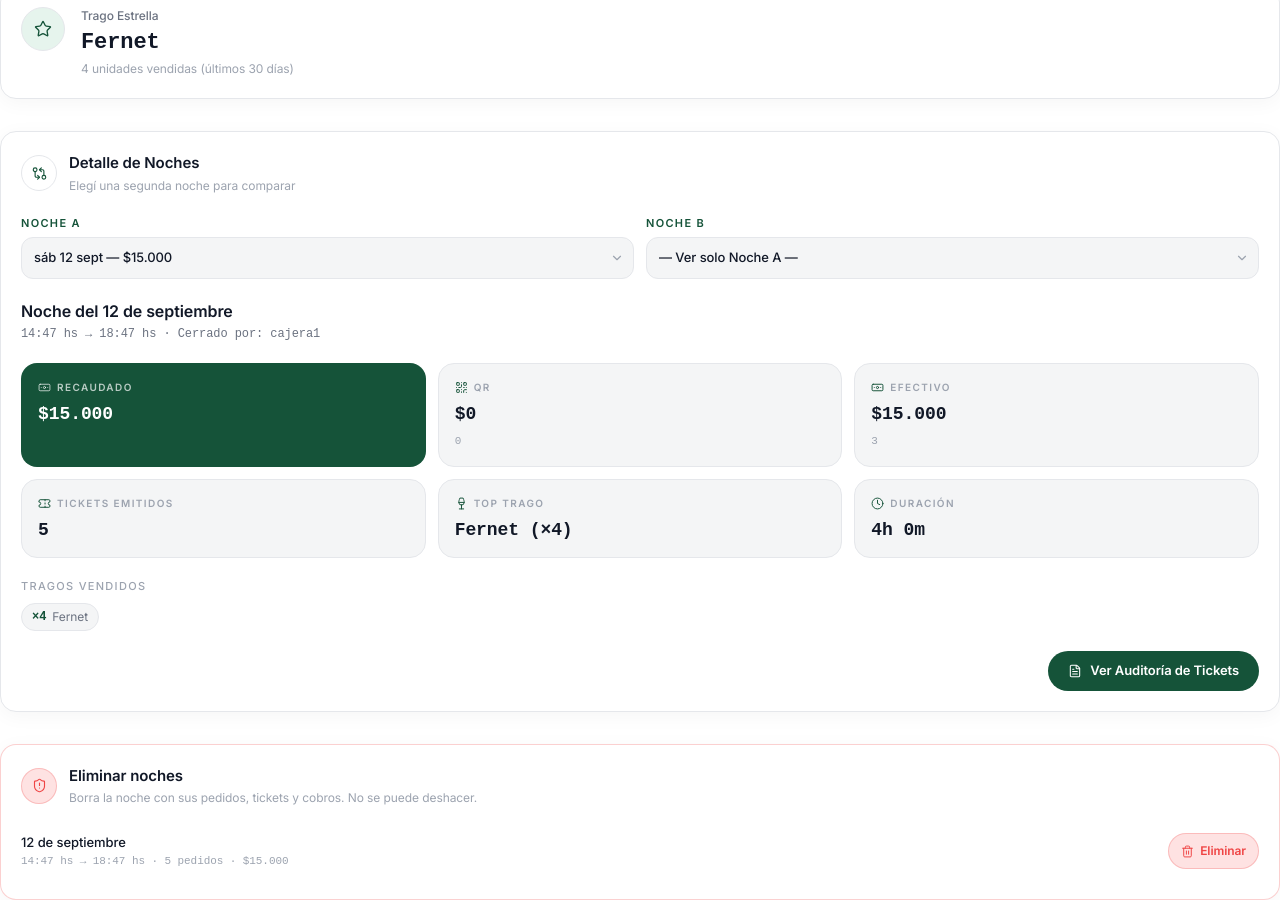
Scenario: HistorialSection › eliminar noche (D1) › al tocar eliminar abre la confirmación y pide el detalle de esa noche
(page scrolled)
Click the button with aria-label "Eliminar la noche del": coordinates (1214, 851) [1168, 833, 1259, 869]
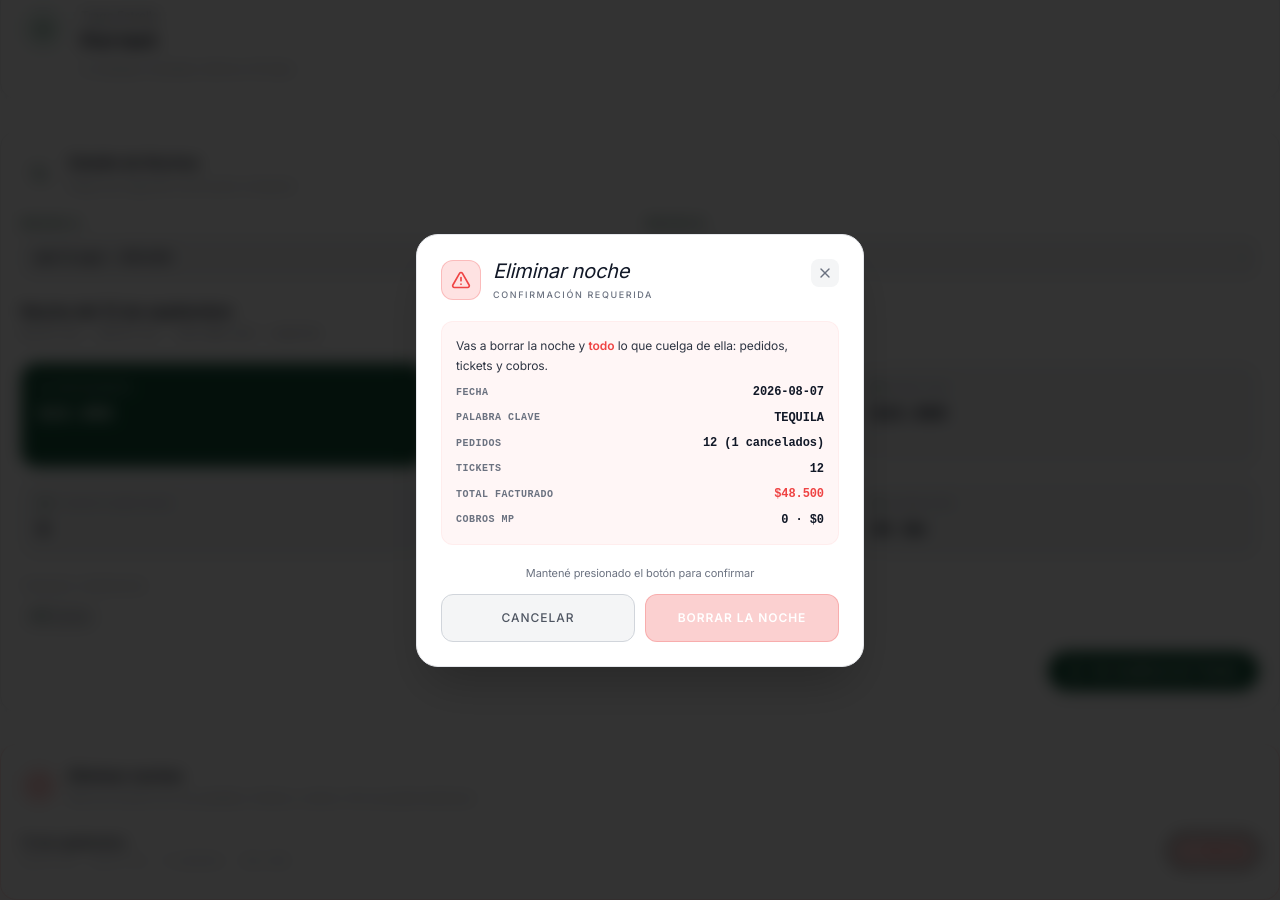
Now the dialog "Eliminar noche" is shown, box [416, 234, 864, 666]
